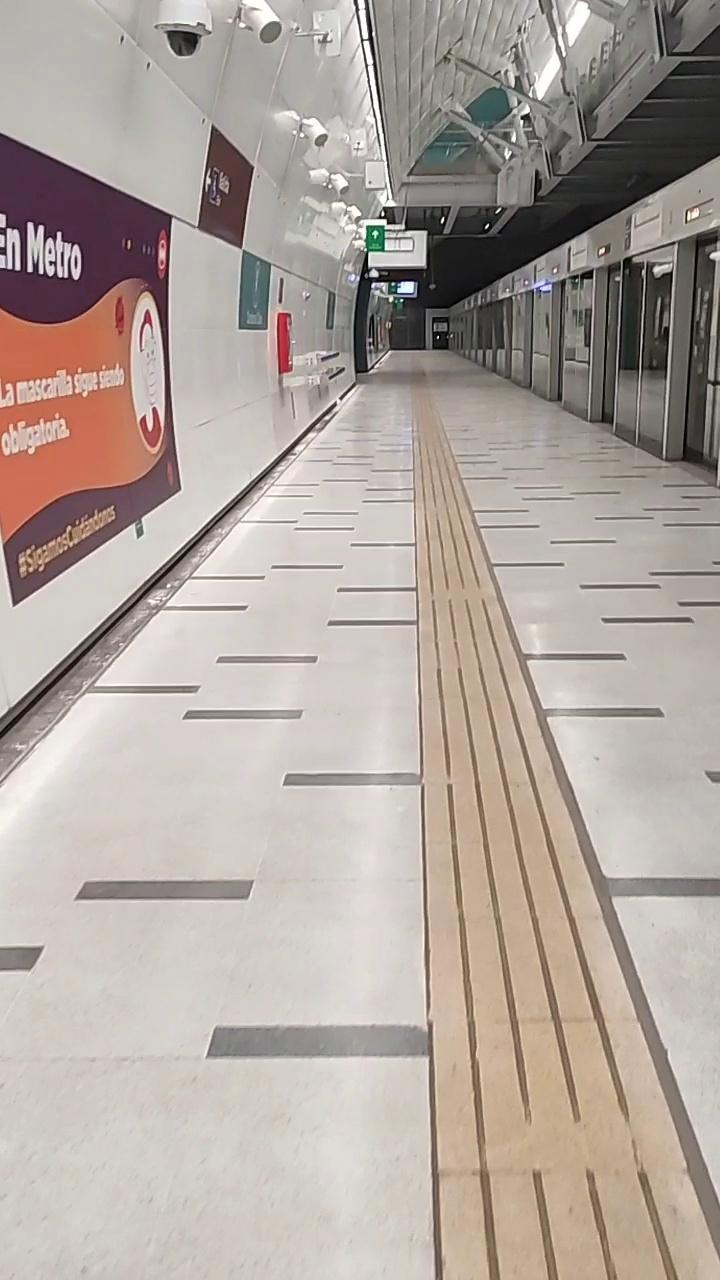handicapped symbol: (211, 172, 218, 200)
left arrow: (204, 169, 211, 193)
